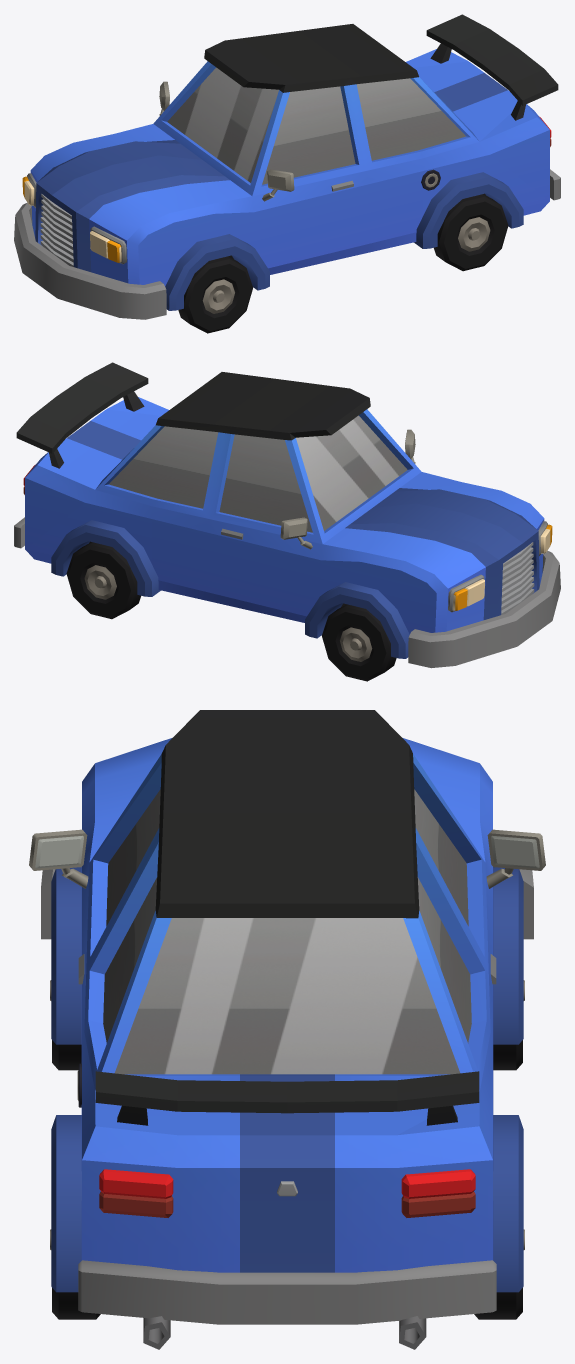
The model's file is Car_1_R.gltf.
3 views of the same model, one above another, from view 1: azimuth 30°, elevation 25°; view 2: azimuth 150°, elevation 25°; view 3: azimuth 270°, elevation 25° (orthographic). The views are drawn at different scales.
Parts seen in each view (by area): view 1: Car_1_R, RL, FL; view 2: Car_1_R, RR, FR; view 3: Car_1_R, RL, RR, FR, FL.
Boxes of the visible parts, <box> form: Car_1_R: <box>14,14,560,319</box>; RL: <box>434,194,508,271</box>; FL: <box>178,256,252,333</box>; Car_1_R: <box>14,362,560,668</box>; RR: <box>66,542,140,619</box>; FR: <box>322,604,396,681</box>; Car_1_R: <box>29,710,545,1349</box>; RL: <box>50,1229,100,1319</box>; RR: <box>474,1229,524,1319</box>; FR: <box>493,980,524,1070</box>; FL: <box>50,980,81,1070</box>.
Bounding box in the file's own units: 3.64 × 1.5 × 1.7.
4 materials, 4 textured.
